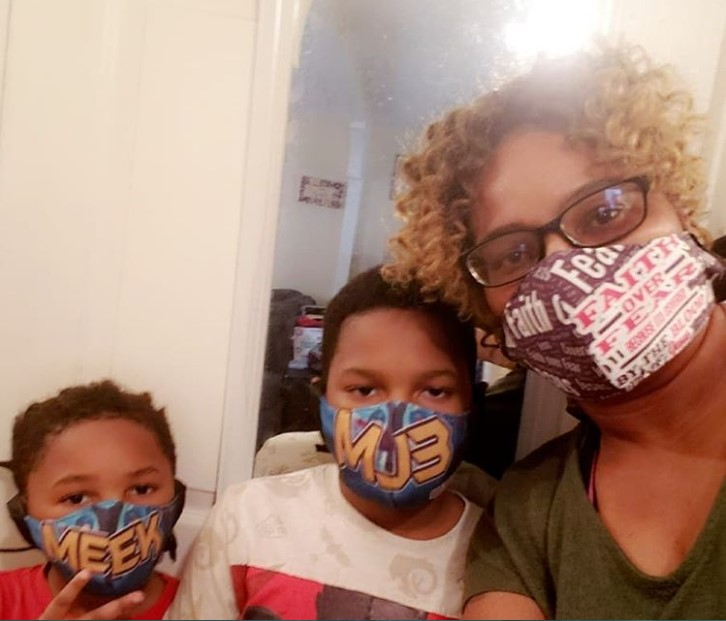face_with_mask: (445, 68, 706, 391), (316, 268, 475, 518), (13, 394, 190, 606)
